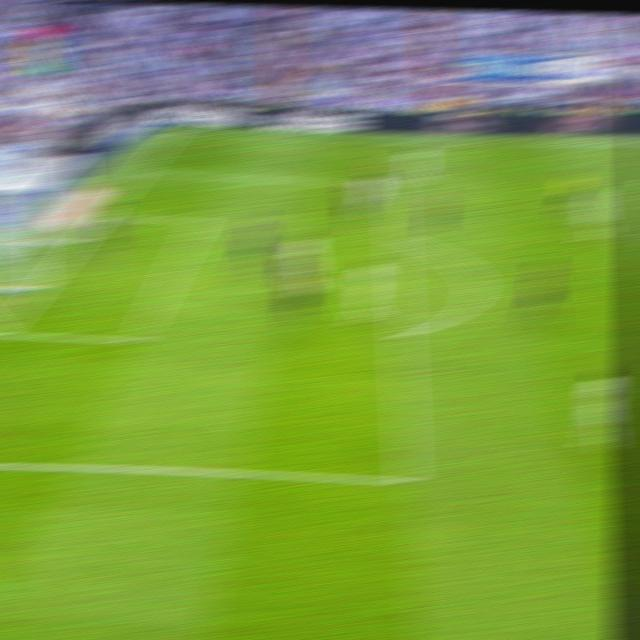bigarea_bottom_inner: (125, 324, 150, 353)
bigarea_top_outter: (130, 165, 151, 177)
corner: (164, 126, 186, 137)
smallarea_bottom_outter: (0, 319, 14, 345)
